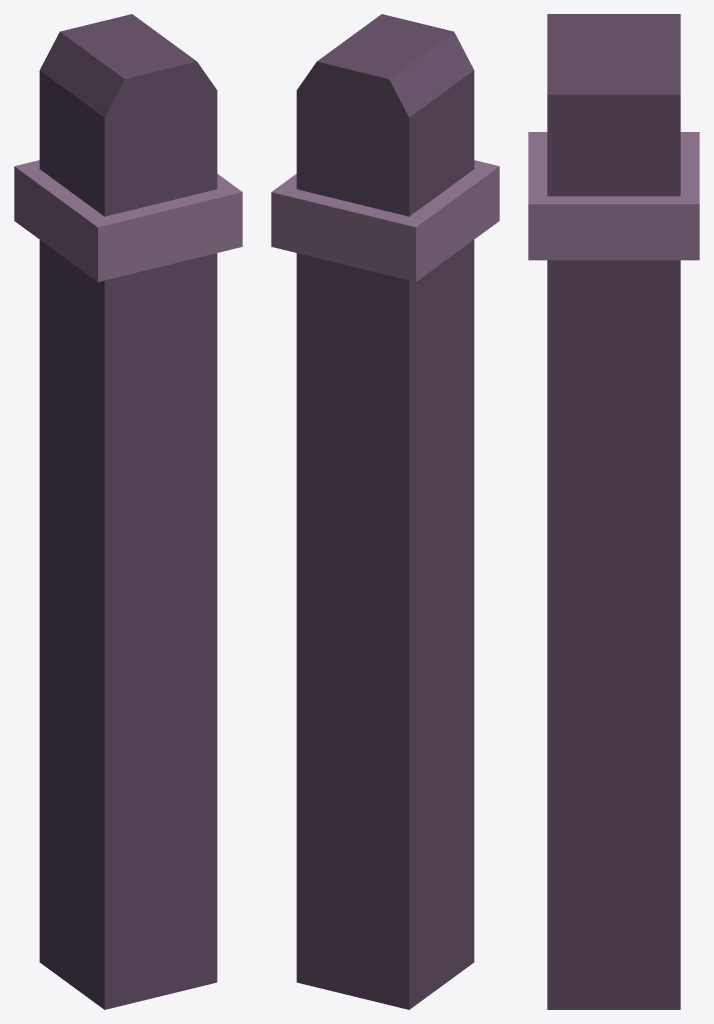
Rendered from TW_WOOD_POST_B_LOD0.glb.
3 views of the same model, side by side, from view 1: azimuth 30°, elevation 25°; view 2: azimuth 150°, elevation 25°; view 3: azimuth 270°, elevation 25° (orthographic). The views are drawn at different scales.
Parts seen in each view (by area): view 1: TW_WOOD_POST_B_LOD0; view 2: TW_WOOD_POST_B_LOD0; view 3: TW_WOOD_POST_B_LOD0.
Boxes of the visible parts, bbox=[...] form: TW_WOOD_POST_B_LOD0: bbox=[14, 14, 242, 1009]; TW_WOOD_POST_B_LOD0: bbox=[271, 14, 499, 1009]; TW_WOOD_POST_B_LOD0: bbox=[528, 14, 699, 1009].
Bounding box in the file's own units: 0.18 × 1.1 × 0.18.
1 material, 1 textured.
